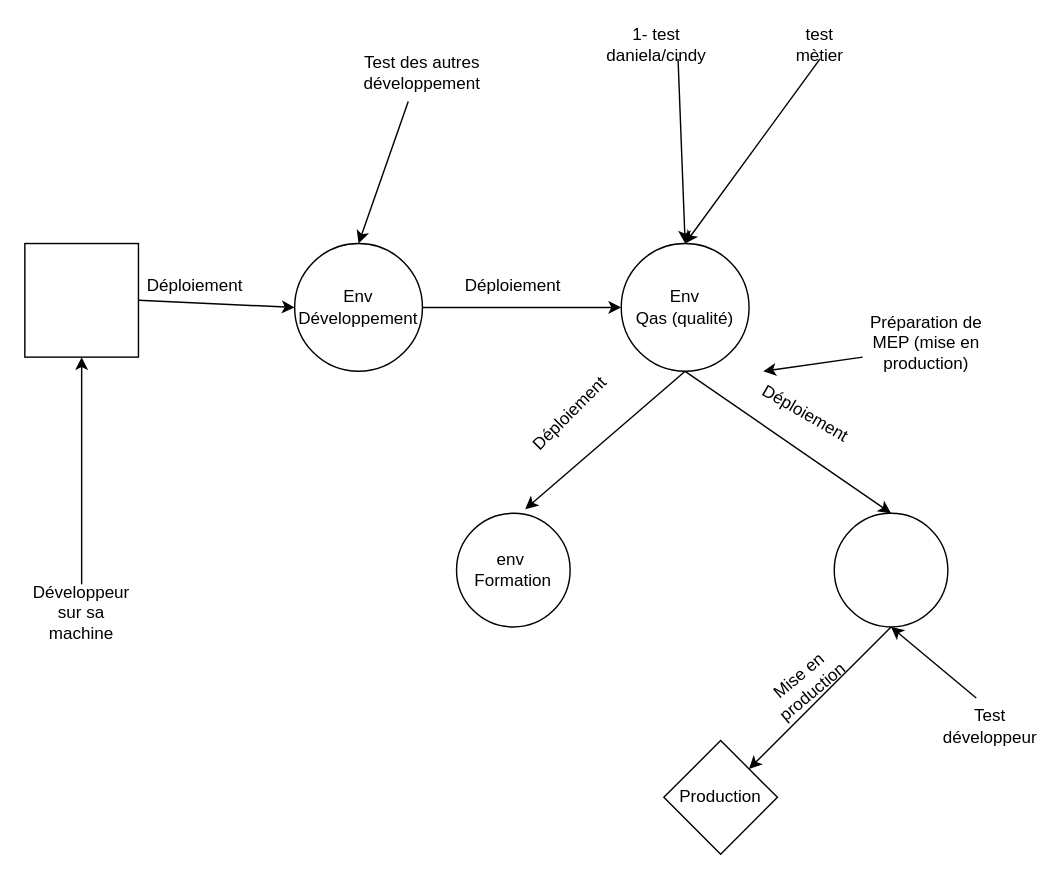
This 1062x879 diagram has some shape labels left out. The shapes that lost their labels are listed below. From the top down, each one's box as (x1, y1, x2, y2) in pixels, then its label:
(23, 242, 138, 357): Localhost
(833, 512, 948, 627): env Preprod
